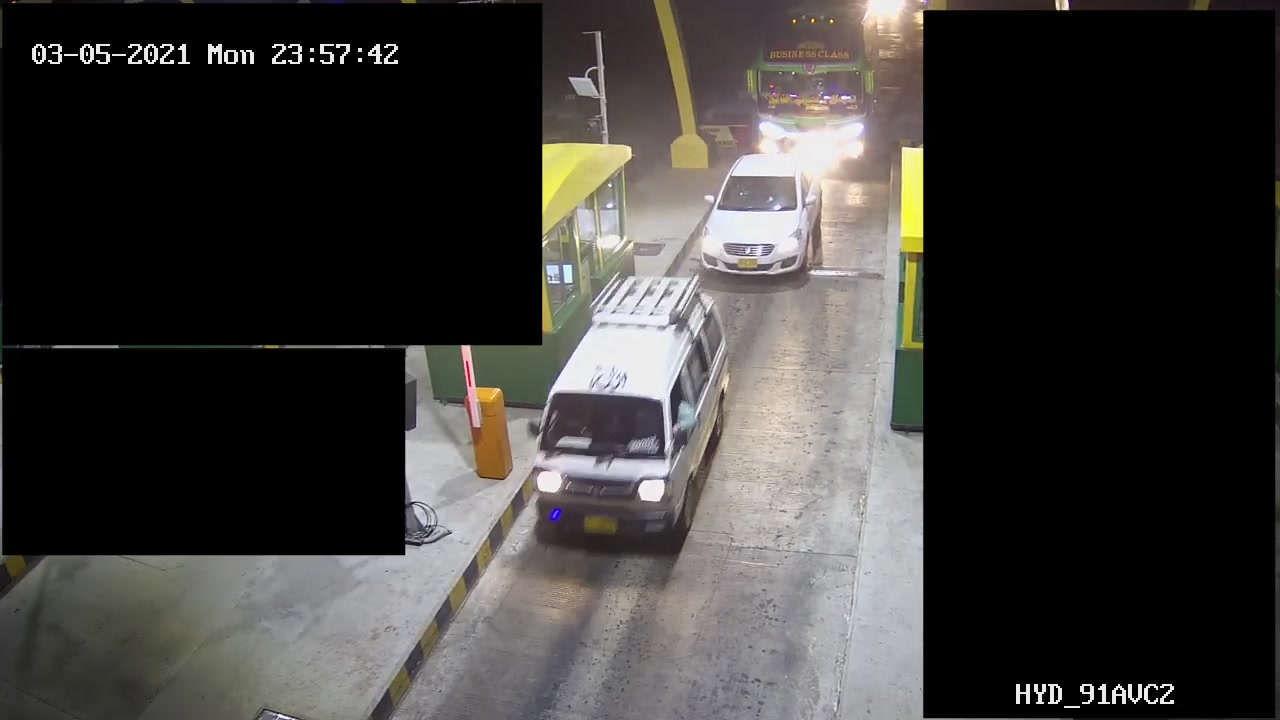F1: (527, 276, 733, 547), (688, 149, 835, 271)
